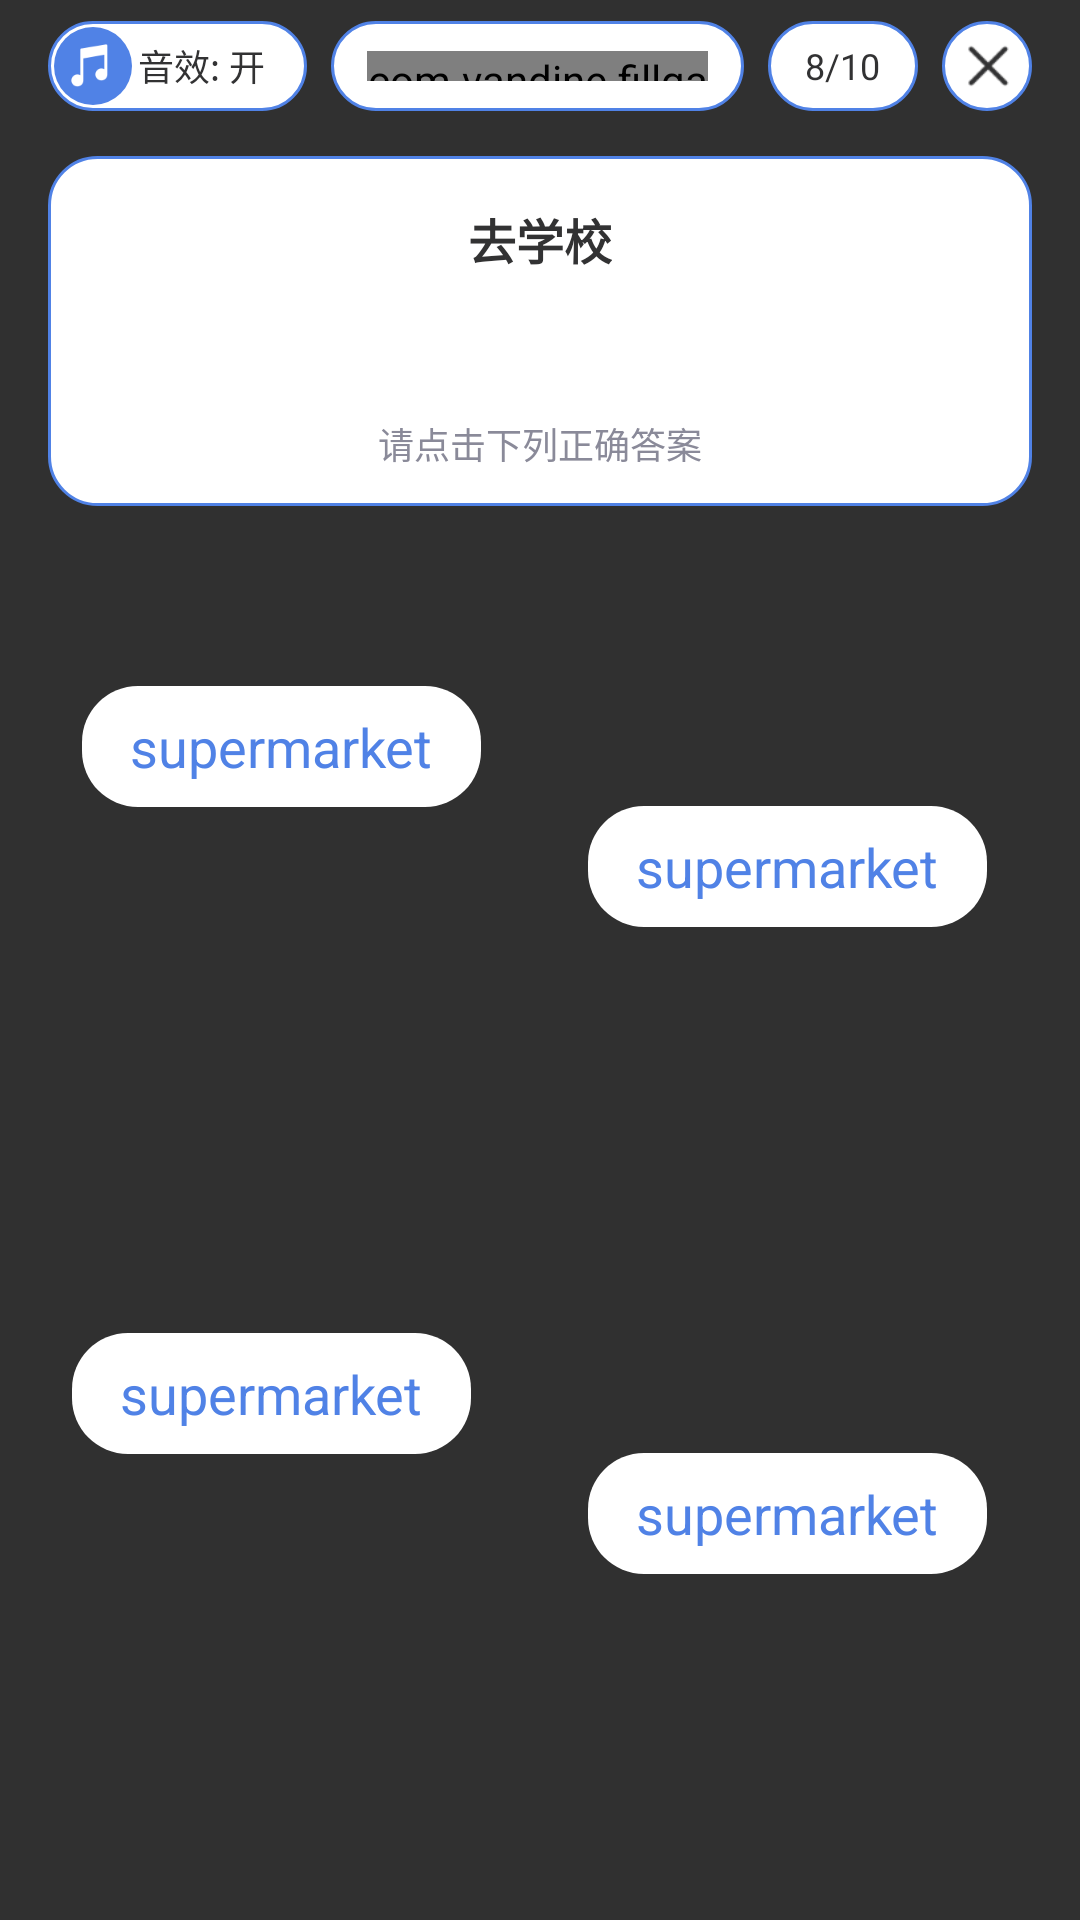

Icon click points for this 1080px x 1920px phone screenshot, format (x=x, y=y):
delete: (x=987, y=66)
